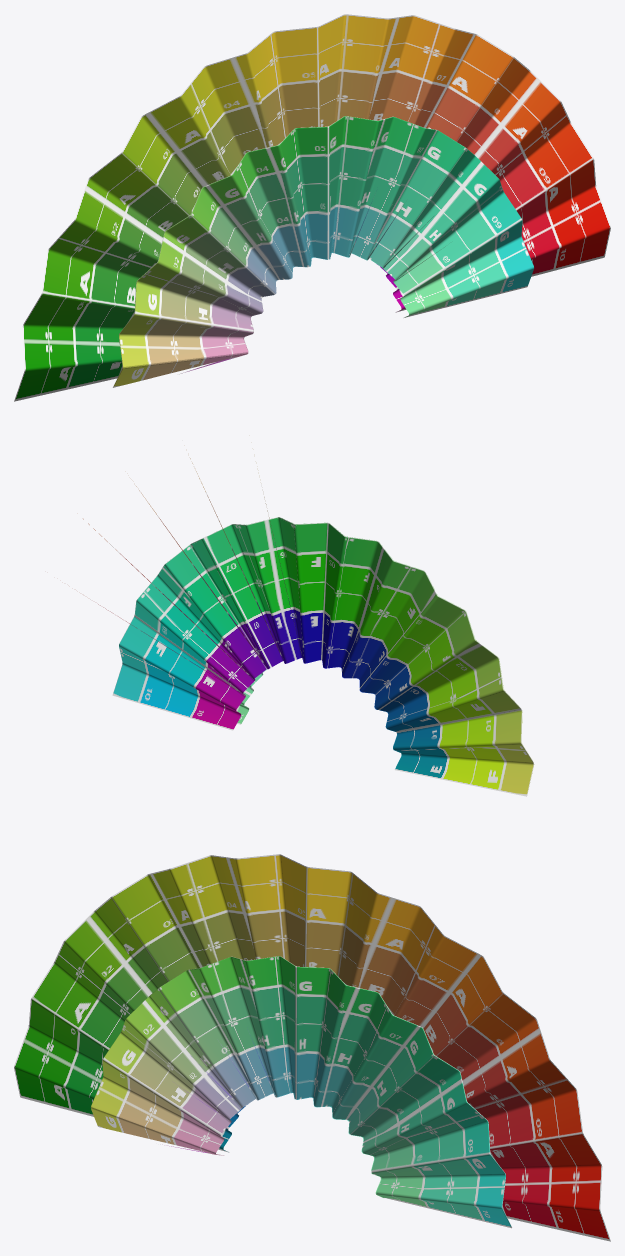
The model's file is paperFan.glb.
The picture shows the model from 3 angles, top to bottom: view 1: azimuth 30°, elevation 25°; view 2: azimuth 150°, elevation 25°; view 3: azimuth 330°, elevation 25°; orthographic projection.
Visible parts, largest first — view 1: paperFan; view 2: paperFan; view 3: paperFan.
Part boxes in pixels (left/top/right/bottom): paperFan: left=14, top=14, right=610, bottom=401; paperFan: left=83, top=458, right=534, bottom=796; paperFan: left=14, top=854, right=610, bottom=1241.
Bounding box in the file's own units: 13.73 × 6.86 × 1.04.
Materials: 1 (1 with a texture image).
